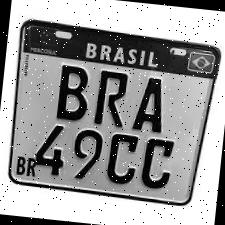placa_mercosul: (8, 19, 219, 204)
